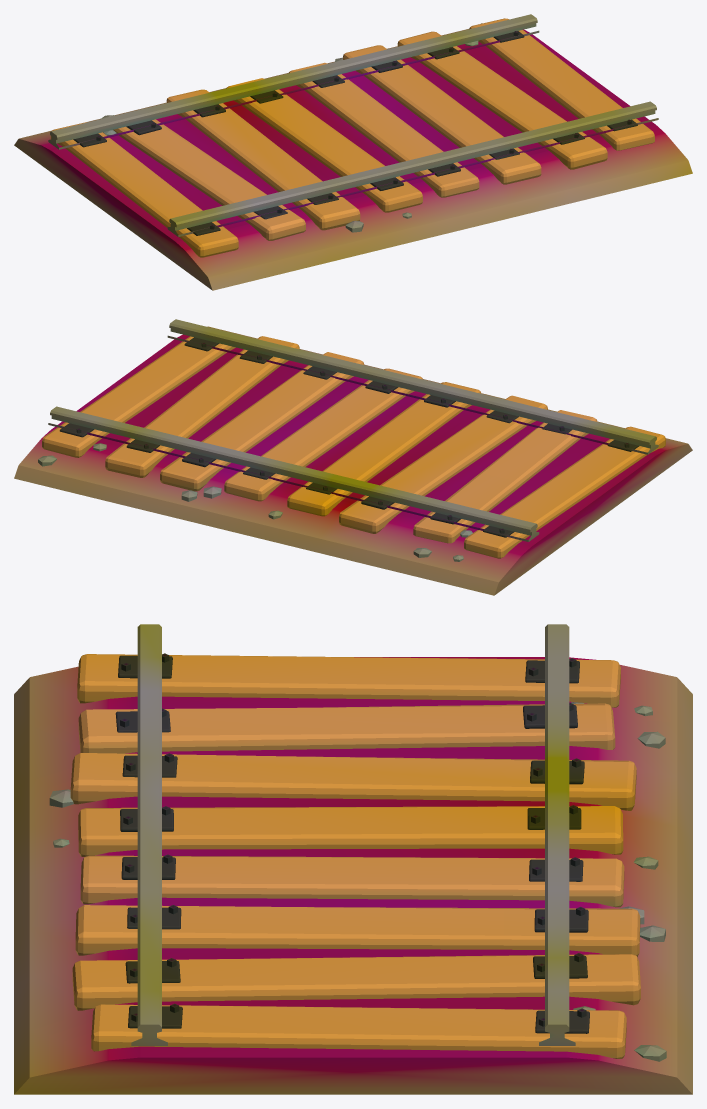
Rendered from Track_Straight_6m.glb.
The picture shows the model from 3 angles, top to bottom: view 1: azimuth 30°, elevation 25°; view 2: azimuth 150°, elevation 25°; view 3: azimuth 270°, elevation 25°; orthographic projection. The views are drawn at different scales.
Parts seen in each view (by area): view 1: Track_Straight_6m; view 2: Track_Straight_6m; view 3: Track_Straight_6m.
Part boxes in pixels (x1,y1,x2,y2): Track_Straight_6m: (14,14,692,290); Track_Straight_6m: (14,319,692,595); Track_Straight_6m: (14,624,692,1094).
Bounding box in the file's own units: 6 × 0.49 × 4.3.
